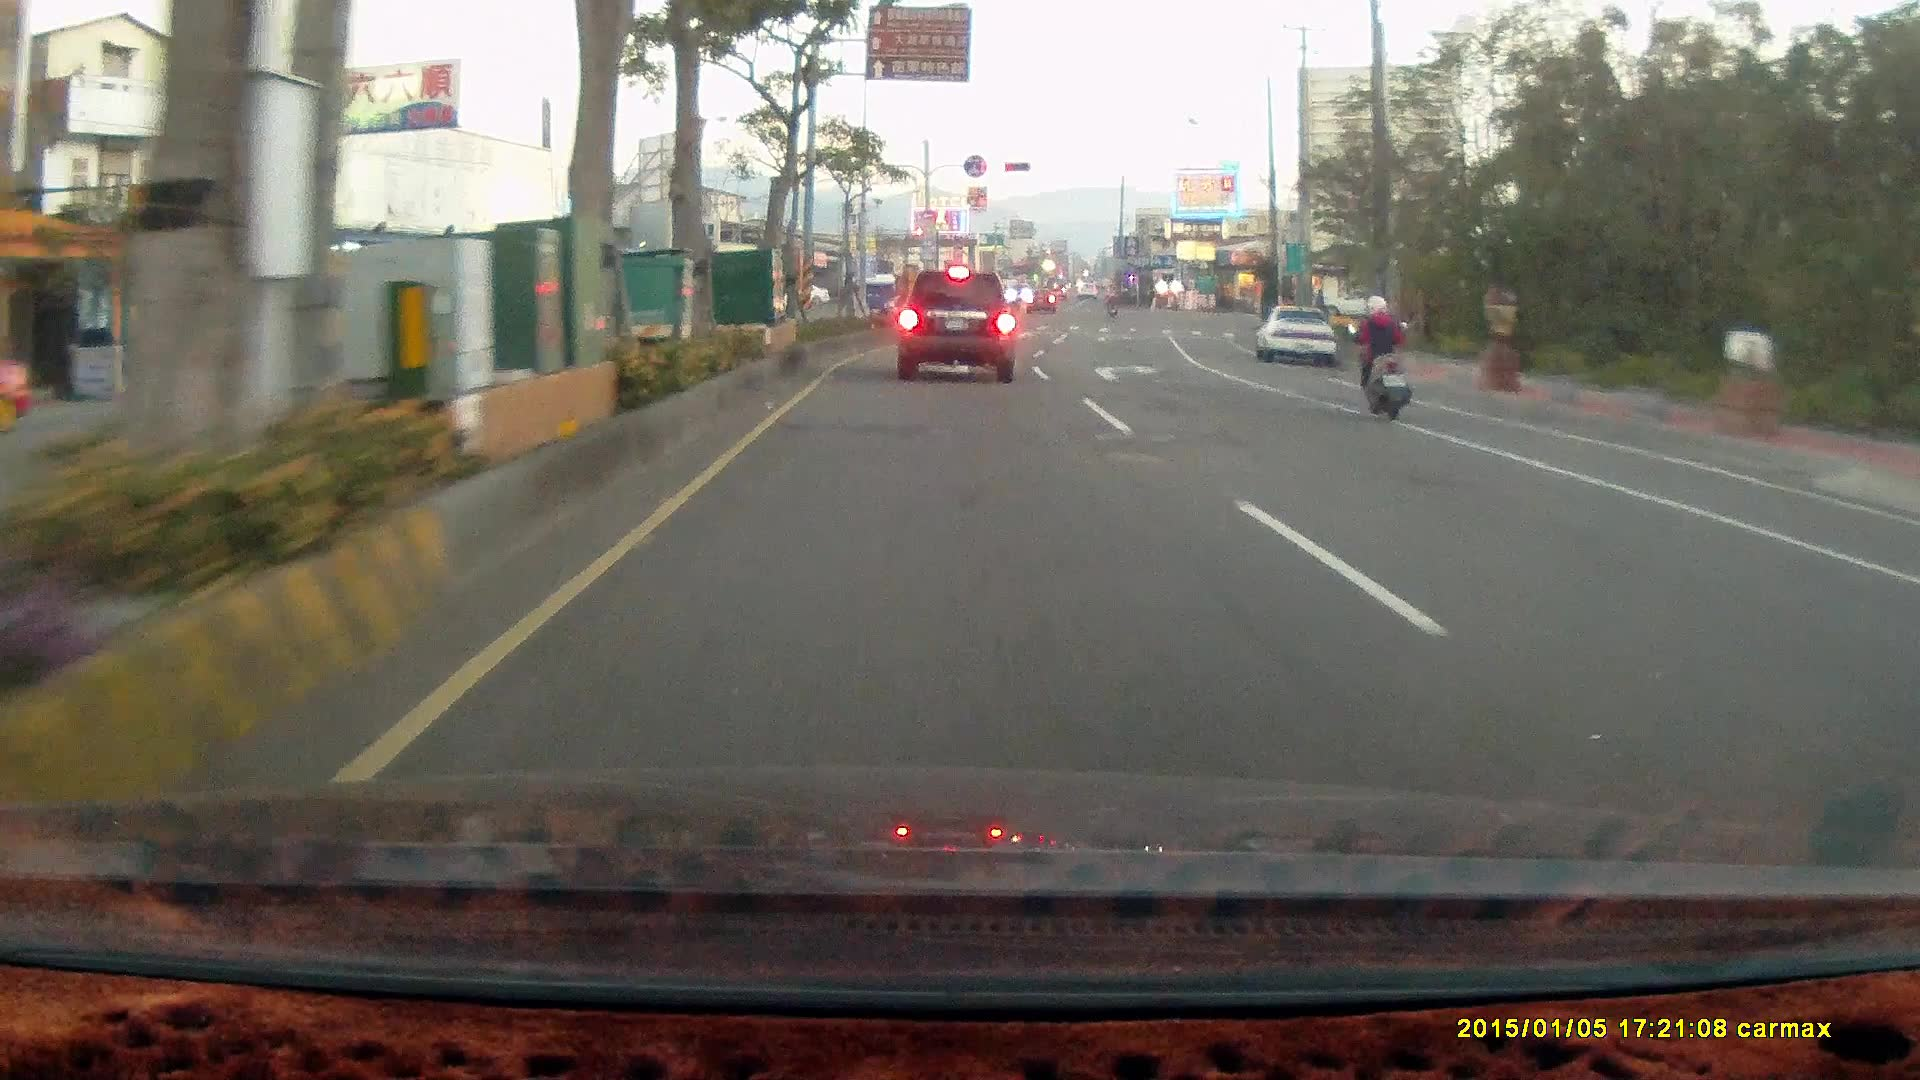rider: (1345, 294, 1411, 423)
vehicle: (895, 269, 1012, 383), (1896, 493, 1920, 836), (1883, 528, 1920, 690), (1255, 305, 1340, 369), (1254, 303, 1338, 366), (1, 338, 33, 435), (1310, 284, 1386, 320)
